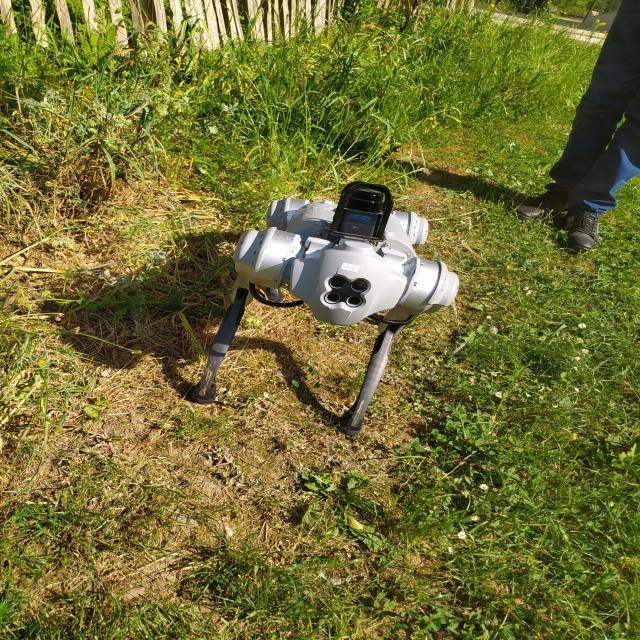unitree-go1-robot: (184, 166, 467, 451)
